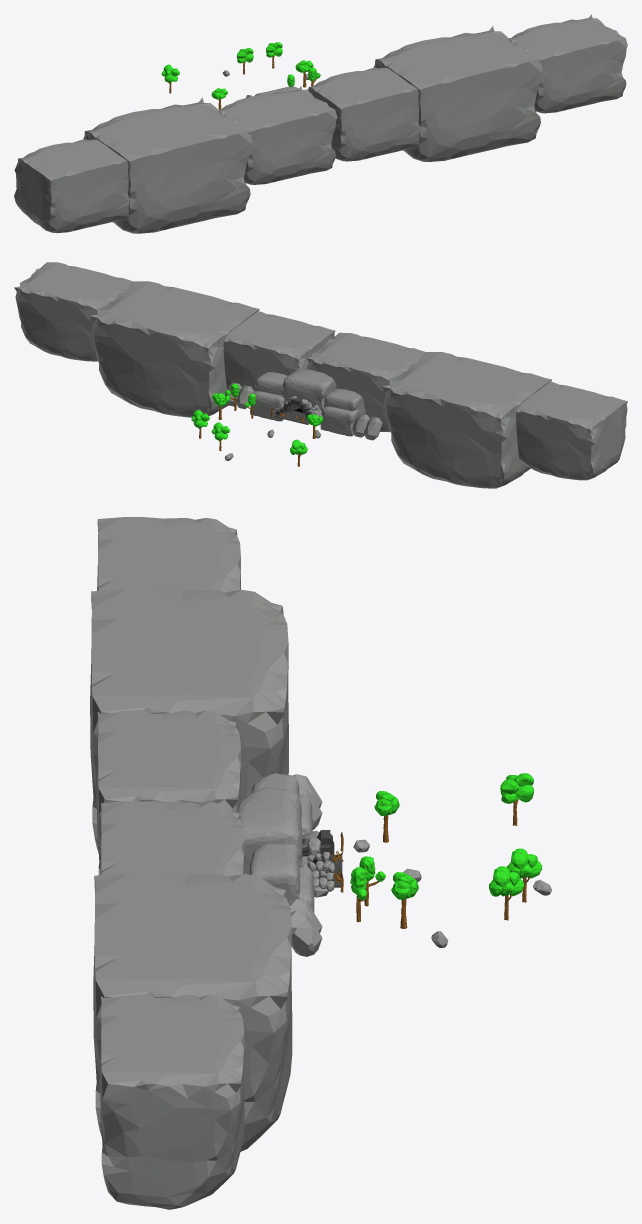
Rendered from NewEnviroment.fbx.
3 views of the same model, one above another, from view 1: azimuth 30°, elevation 25°; view 2: azimuth 150°, elevation 25°; view 3: azimuth 270°, elevation 25° (orthographic). The views are drawn at different scales.
Visible parts, largest first — view 1: Long_rock.009; view 2: Long_rock.009; view 3: Long_rock.009.
Part boxes in pixels (bbox=[...]): Long_rock.009: bbox=[14, 14, 627, 233]; Long_rock.009: bbox=[14, 262, 627, 488]; Long_rock.009: bbox=[90, 517, 551, 1209].
Size of the model in its own units: 11799 by 1731 by 4070.
